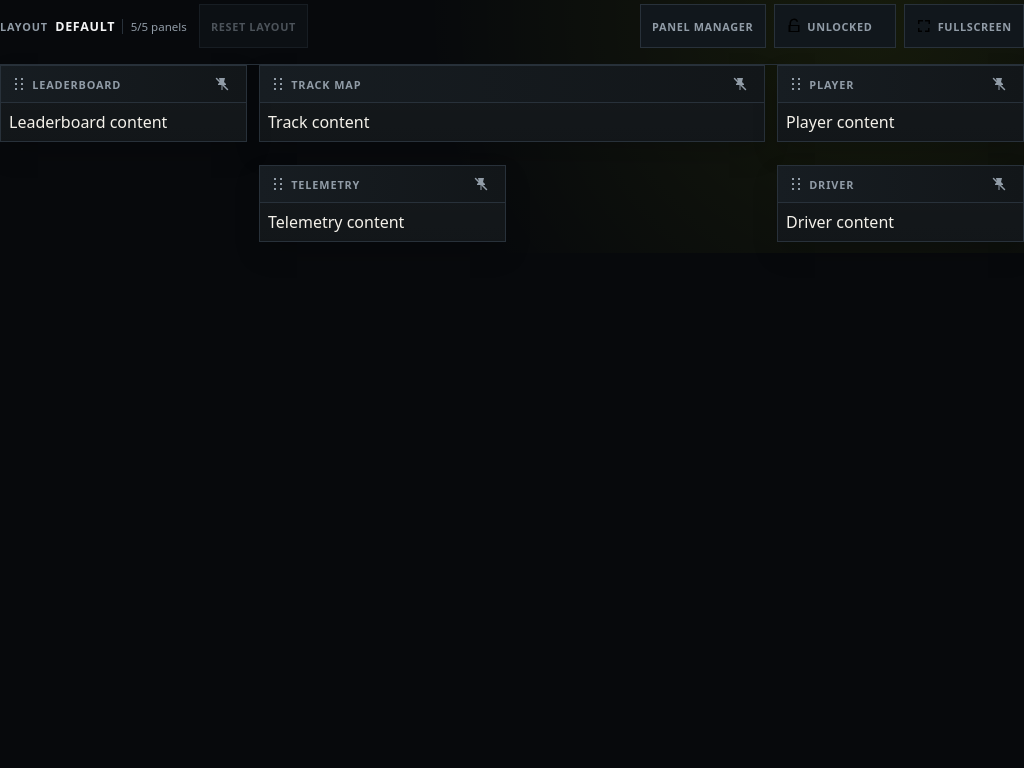
unpins a panel immediately and restores it from Panel Manager
Step 1. Click the button named "Unpin Player panel" → (999,84), box left=981, top=66, right=1017, bottom=102
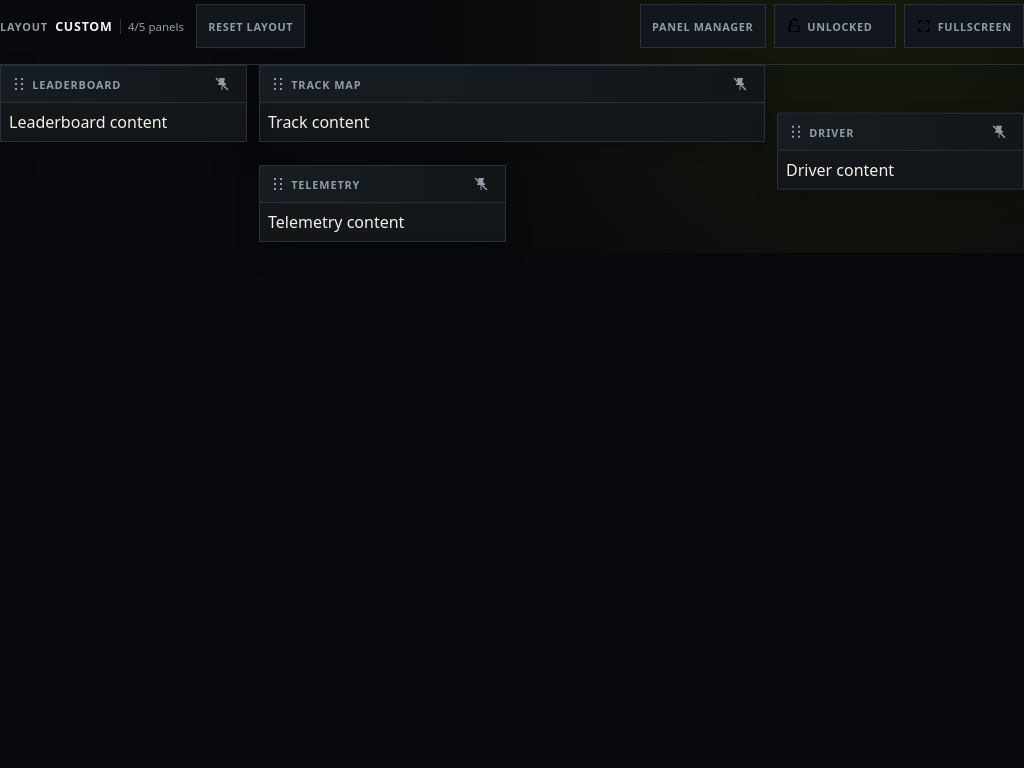
Now the button "Player" is gone
Step 2. Click the button "Panel Manager" → (703,26), box left=640, top=4, right=766, bottom=48
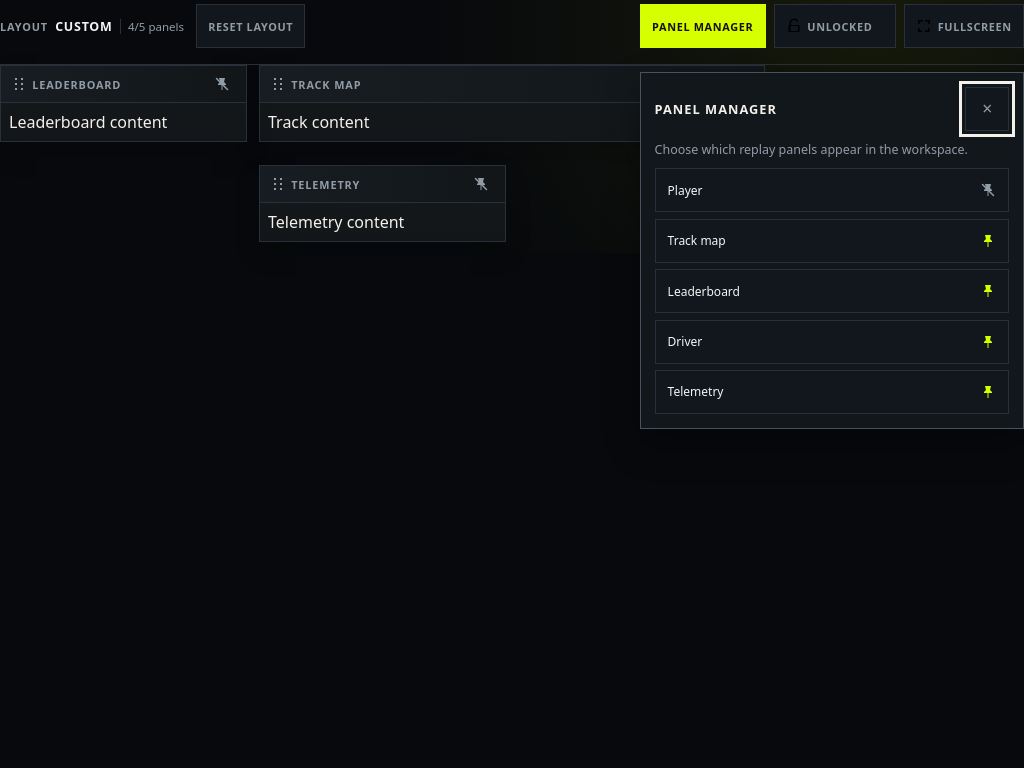
Now the text "Player" is shown, box left=668, top=182, right=702, bottom=199
Step 3. Click the button with aria-label "Pin Player panel" → (685,190), box left=655, top=168, right=1009, bottom=212
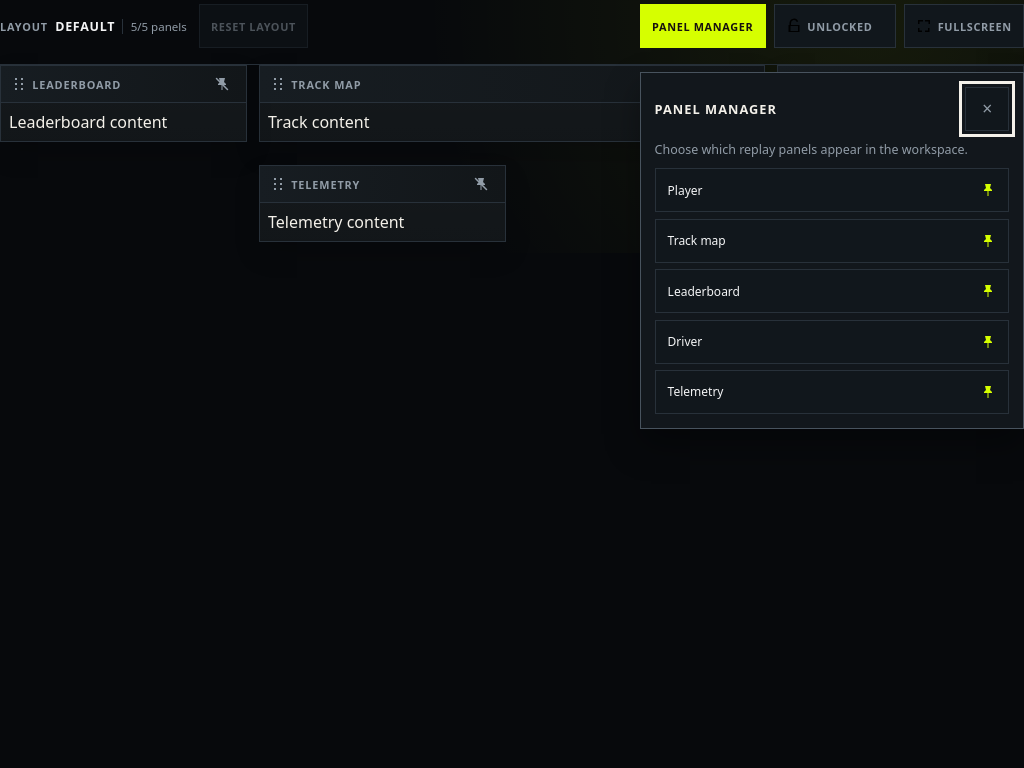
Now the element "Player" is shown, box left=777, top=65, right=1023, bottom=142
